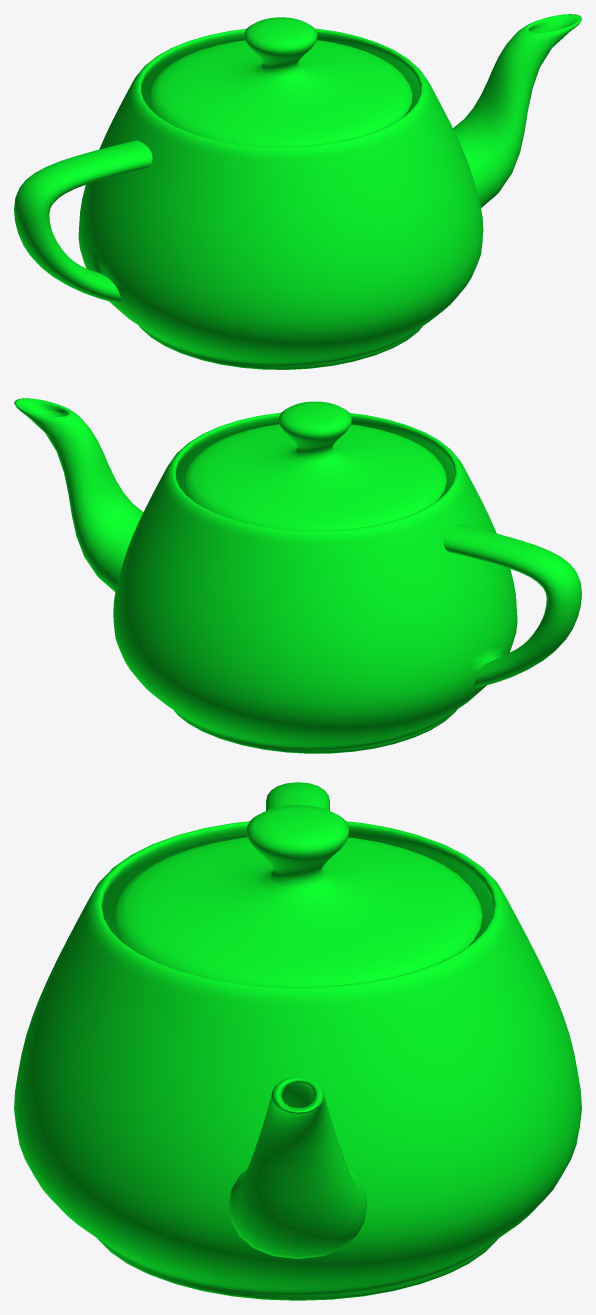
File: teapot.gltf
3 views of the same model, one above another, from view 1: azimuth 30°, elevation 25°; view 2: azimuth 150°, elevation 25°; view 3: azimuth 270°, elevation 25° (orthographic). The views are drawn at different scales.
Parts seen in each view (by area): view 1: teapot; view 2: teapot; view 3: teapot.
Boxes of the visible parts, bbox=[...] form: teapot: bbox=[14, 14, 581, 369]; teapot: bbox=[14, 398, 581, 753]; teapot: bbox=[14, 782, 581, 1300].
Size of the model in its own units: 6.43 by 3.15 by 4.
